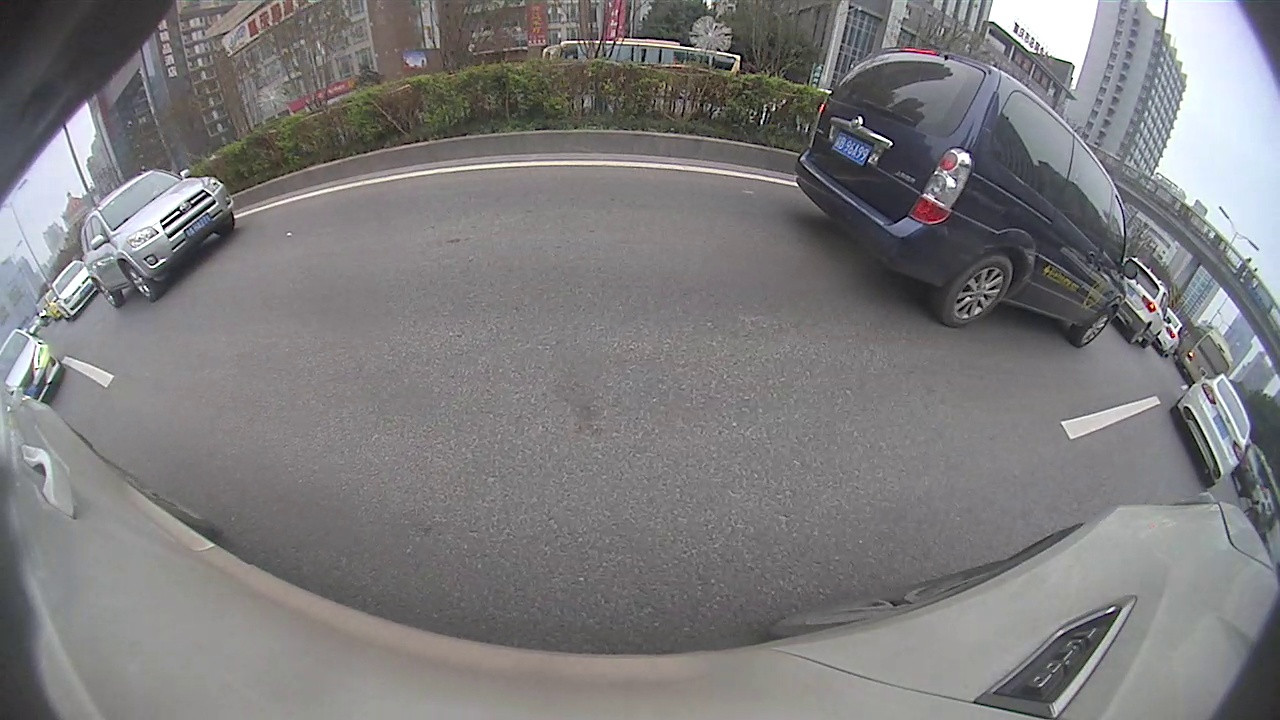car: (1, 350, 69, 452), (371, 181, 461, 235), (959, 197, 1034, 252), (676, 149, 738, 196), (652, 161, 678, 182)
person: (452, 146, 483, 208)
rider: (915, 178, 964, 243)
